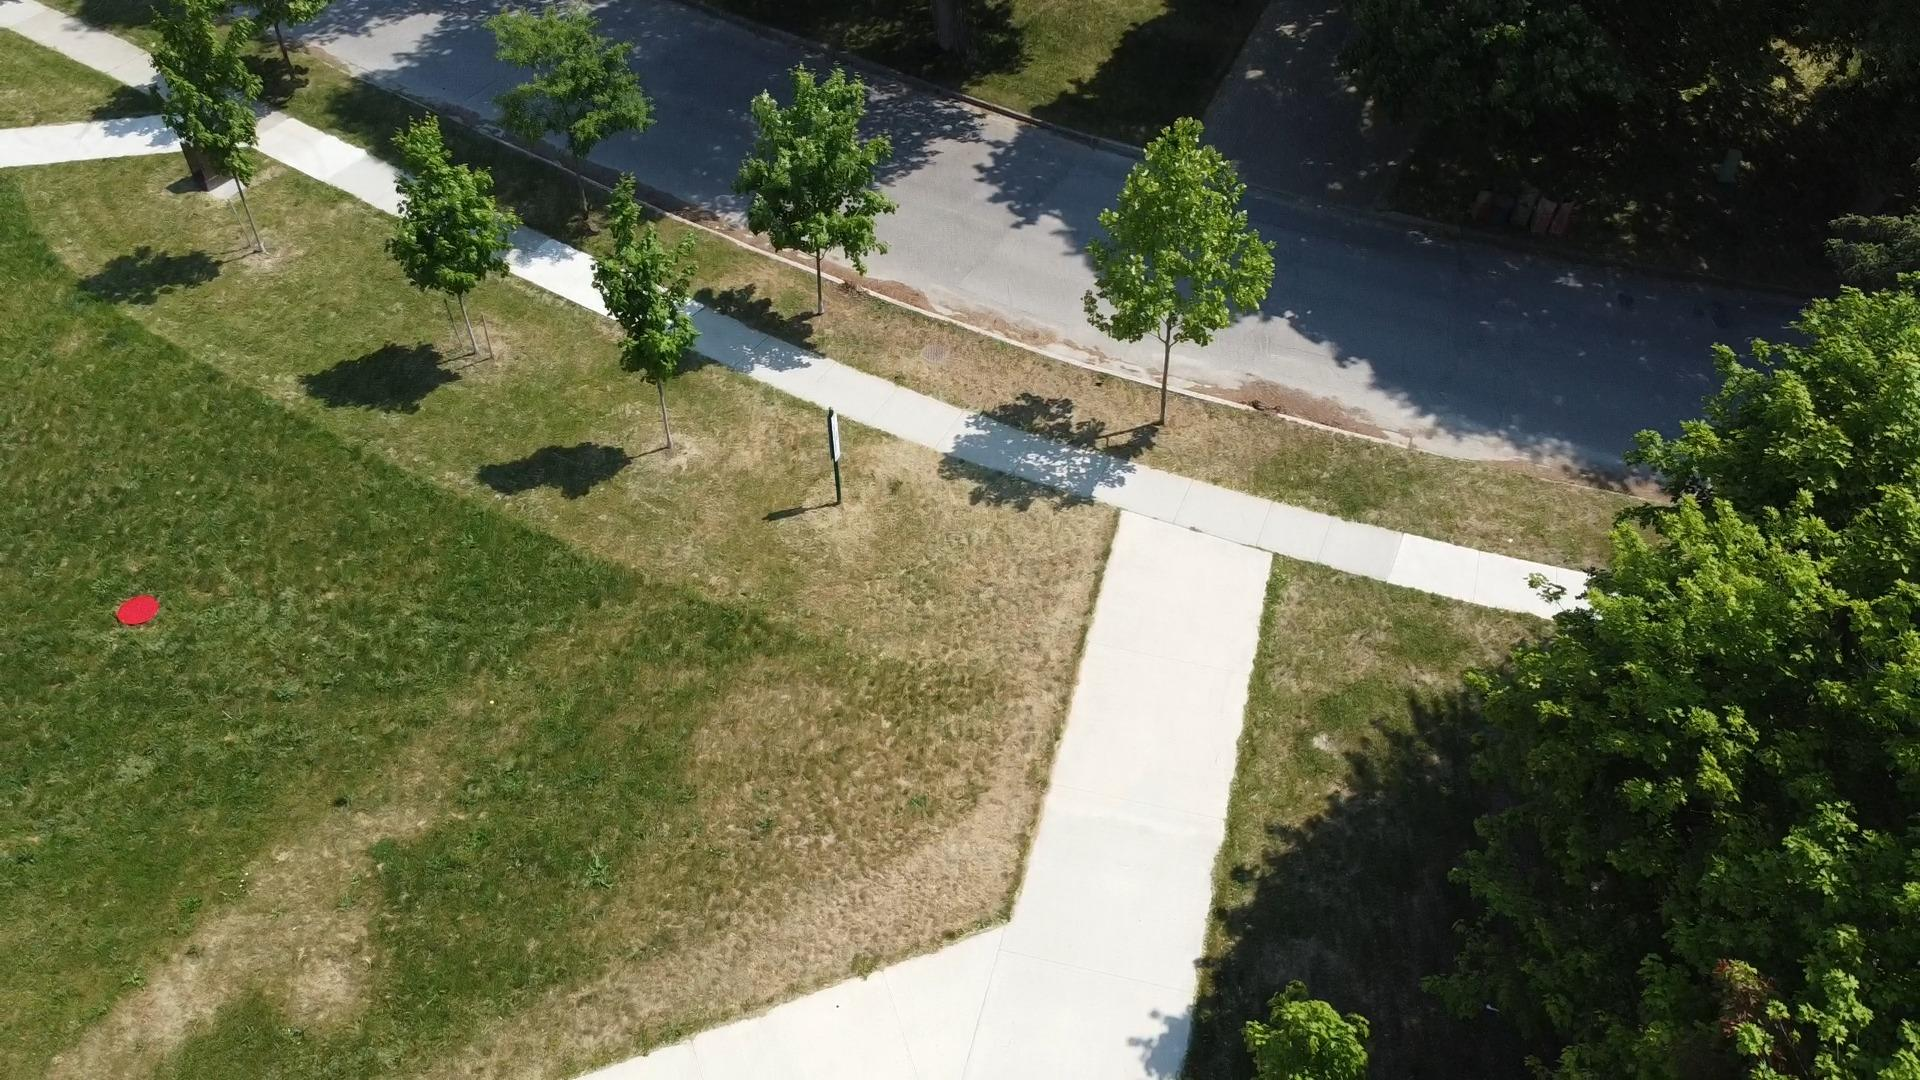Red: (115, 595, 161, 626)
